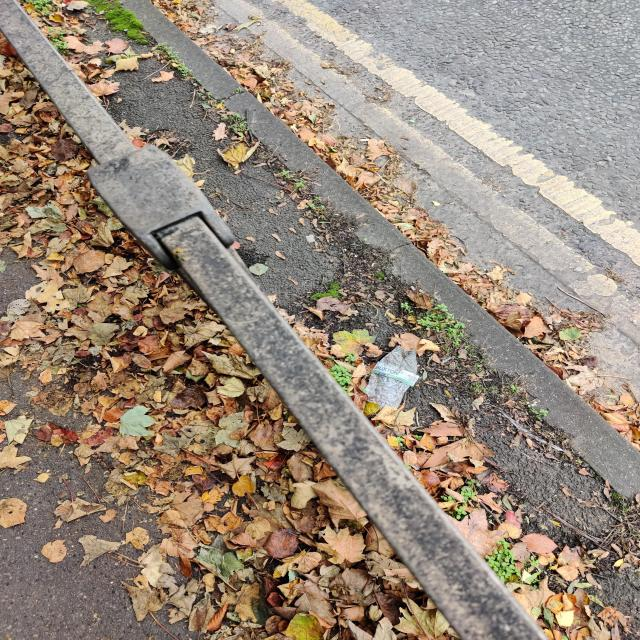litter: (364, 345, 421, 408), (359, 139, 370, 141)
